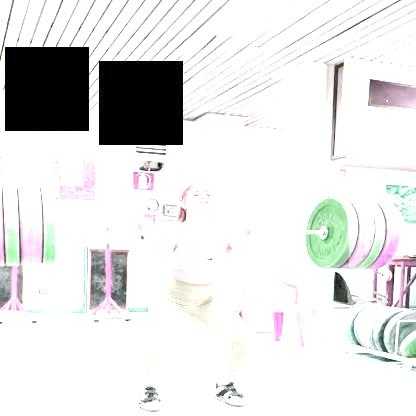barbell: (303, 199, 347, 269)
